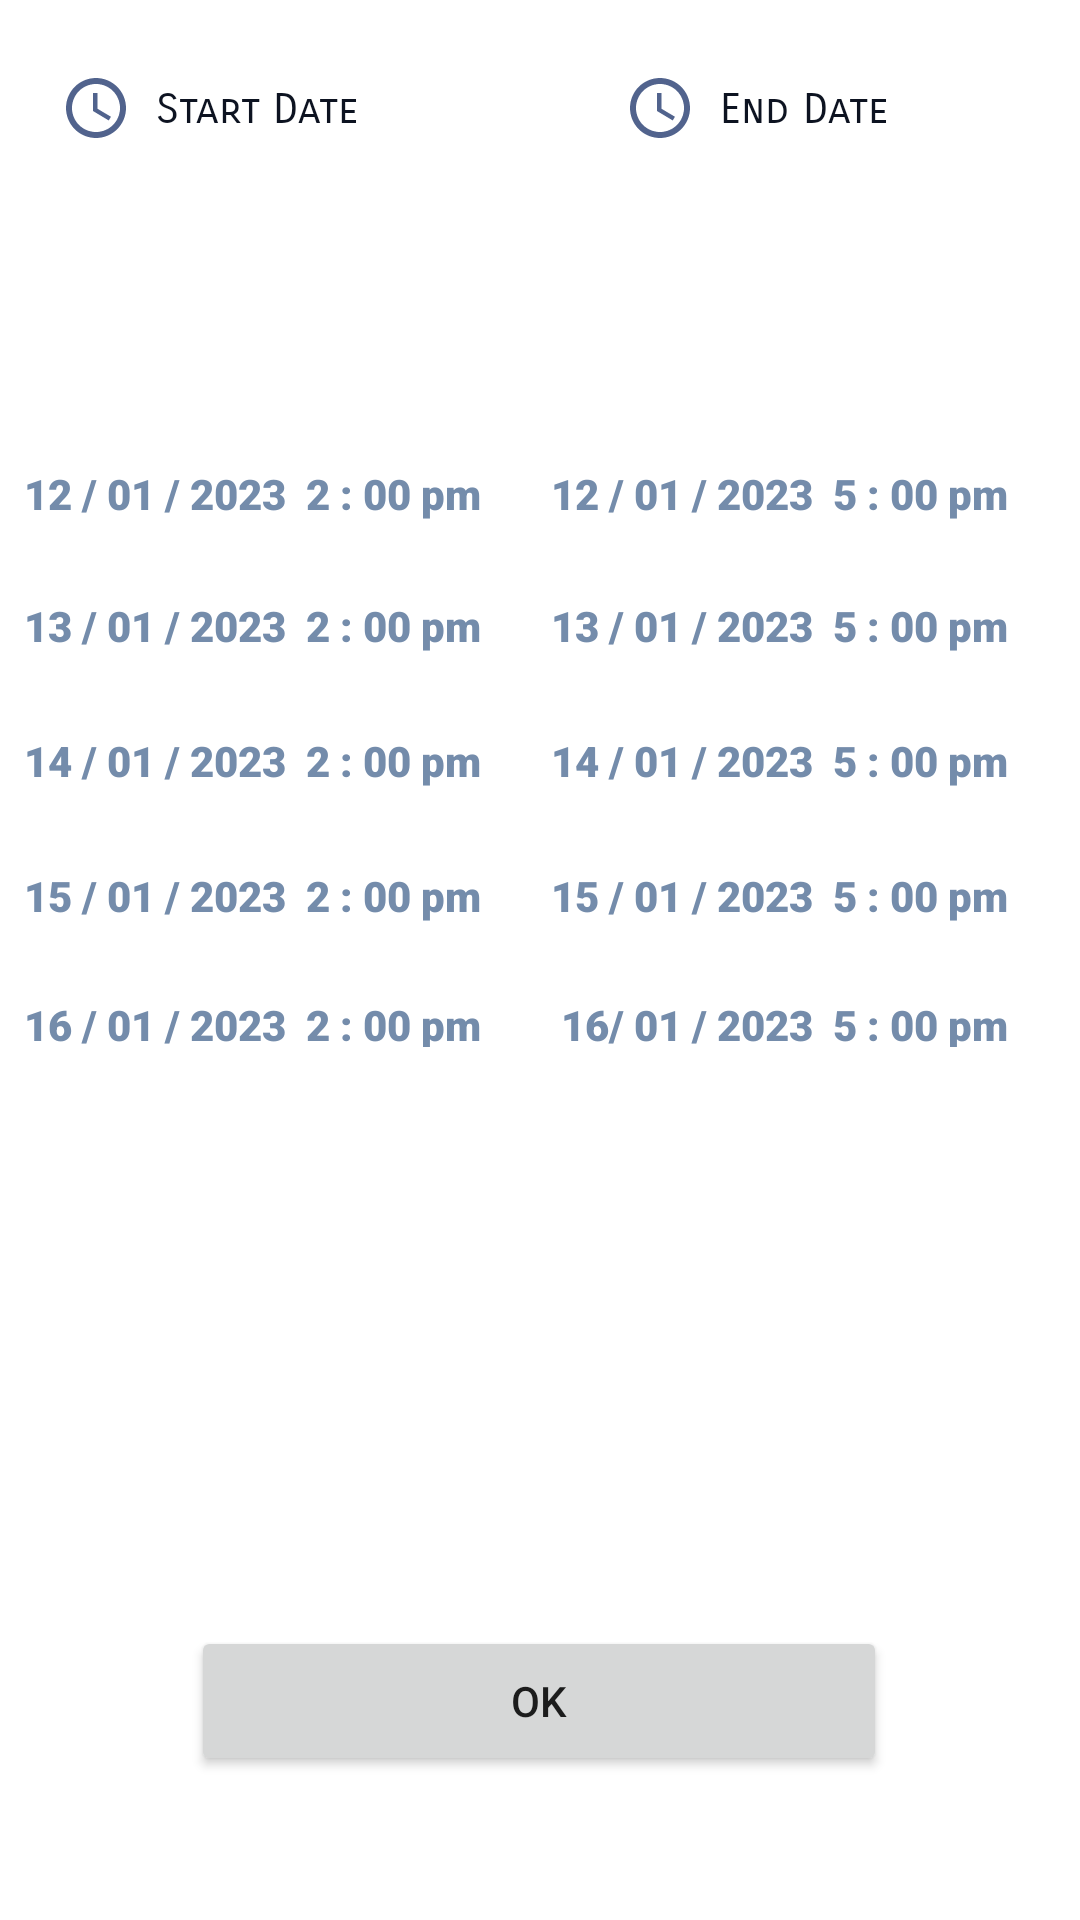

Where icons sit on this 1080x1920 app screen, as (left=x1, top=y1, right=x2, bottom=y2):
access time: (left=66, top=78, right=126, bottom=138), (left=630, top=78, right=690, bottom=138)
